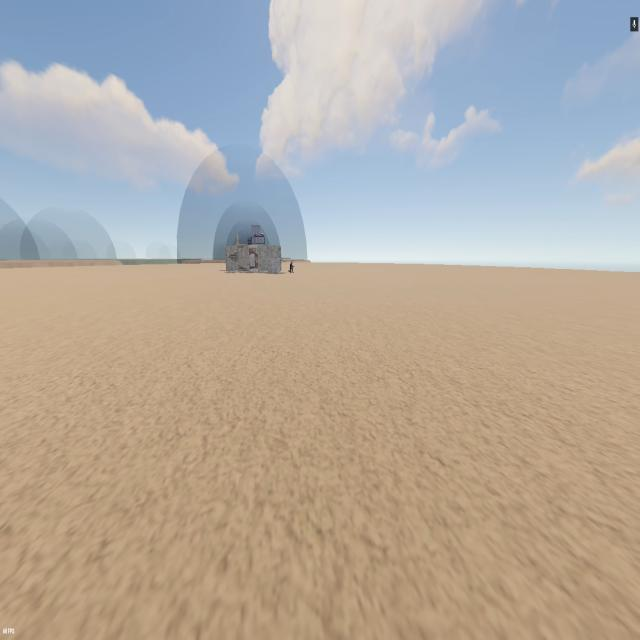Player: (288, 260, 295, 274)
